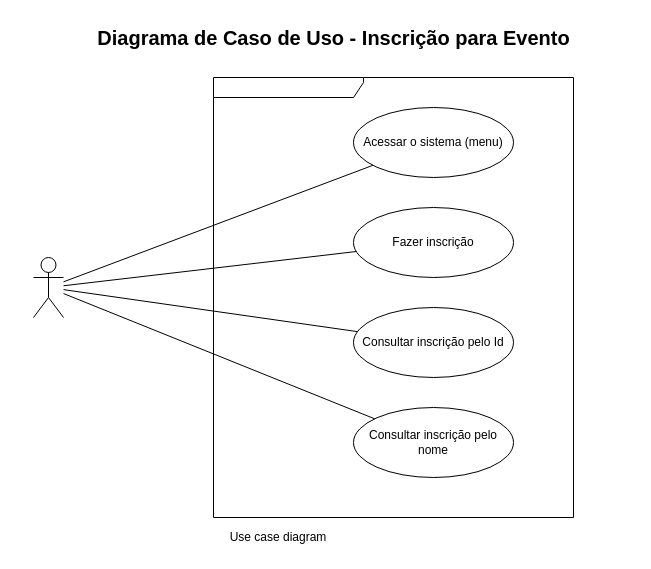
The diagram is 651 pixels wide and 569 high, and some of its shapes have lost their labels. The box of each missing label's shape, as (x1, y1, x2, y2) in pixels:
Participante: (32, 256, 64, 318)
UC: Inscrição Evento: (212, 76, 574, 518)
